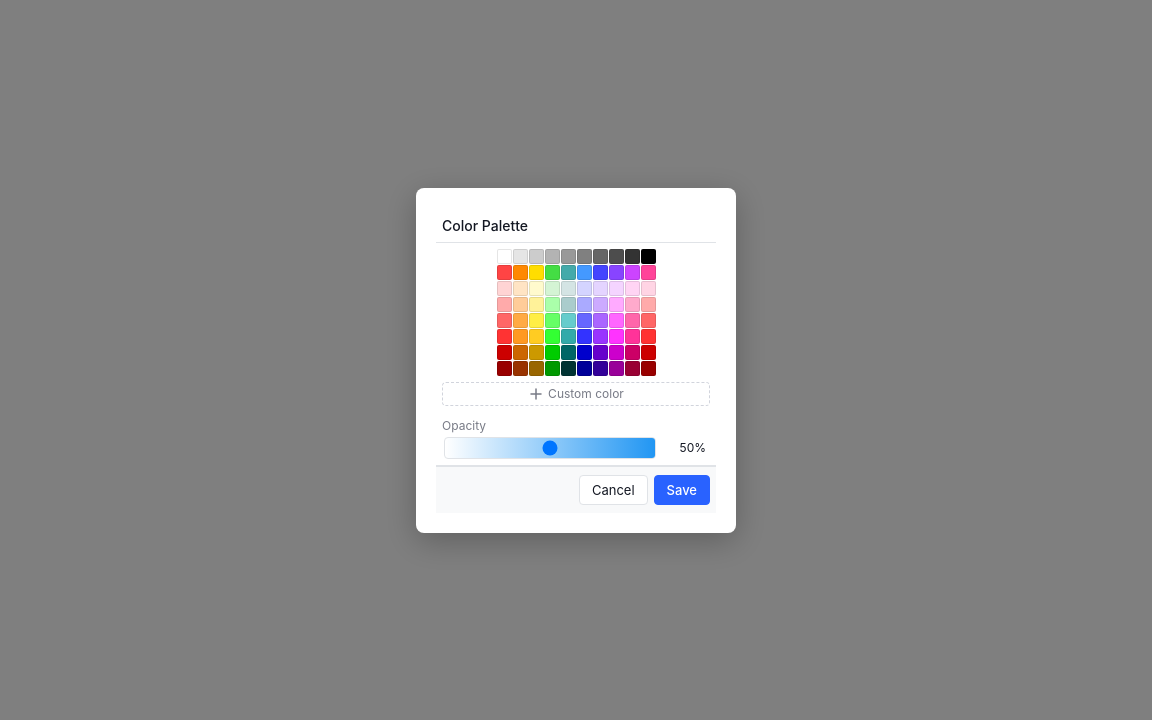
it: ColorPickerDialog › should open custom color picker when custom color button is clicked
The image size is (1152, 720).
Click the button "Custom color": (576, 394) [442,382,710,406]
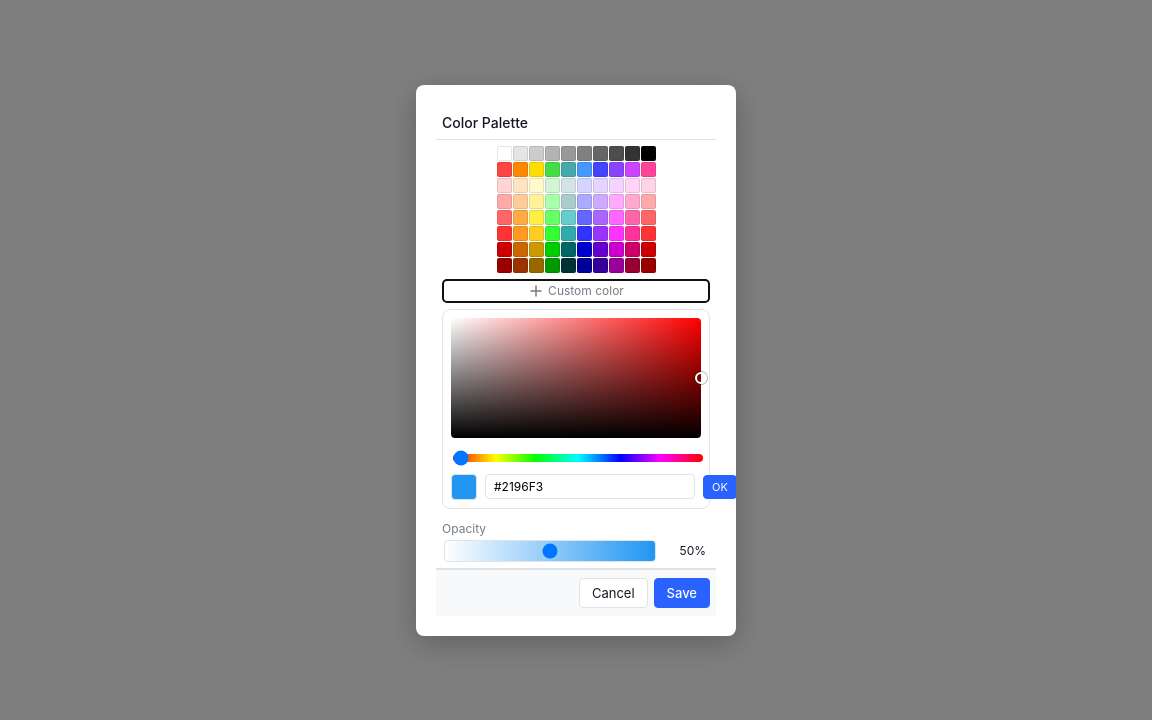
Result: the button "OK" is shown at [703,474,736,498]
